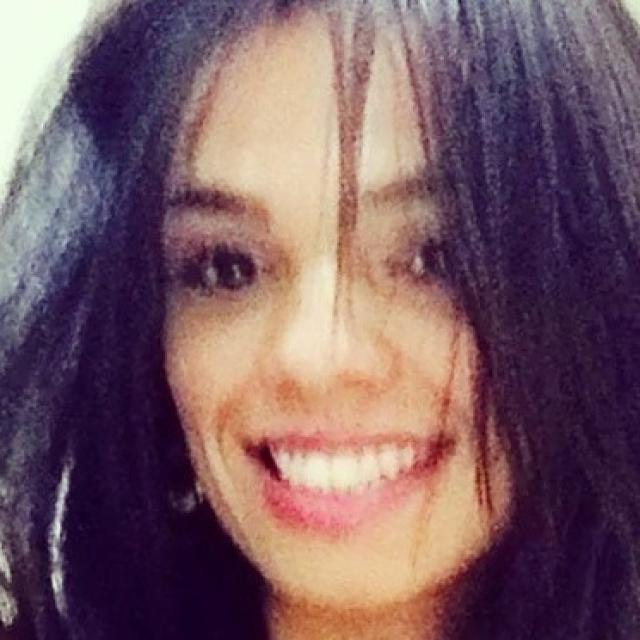Normal: (160, 9, 569, 621)
